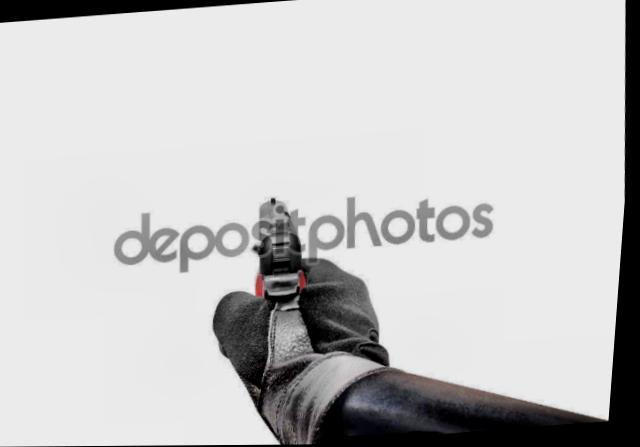pistol: (244, 189, 321, 367)
